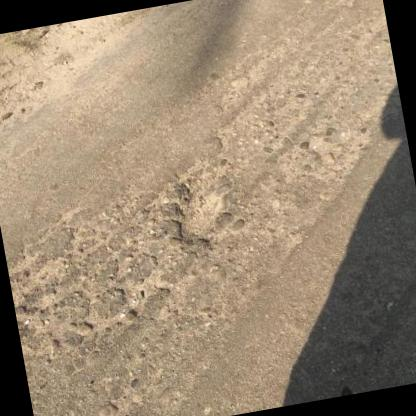pothole: (167, 180, 229, 249)
